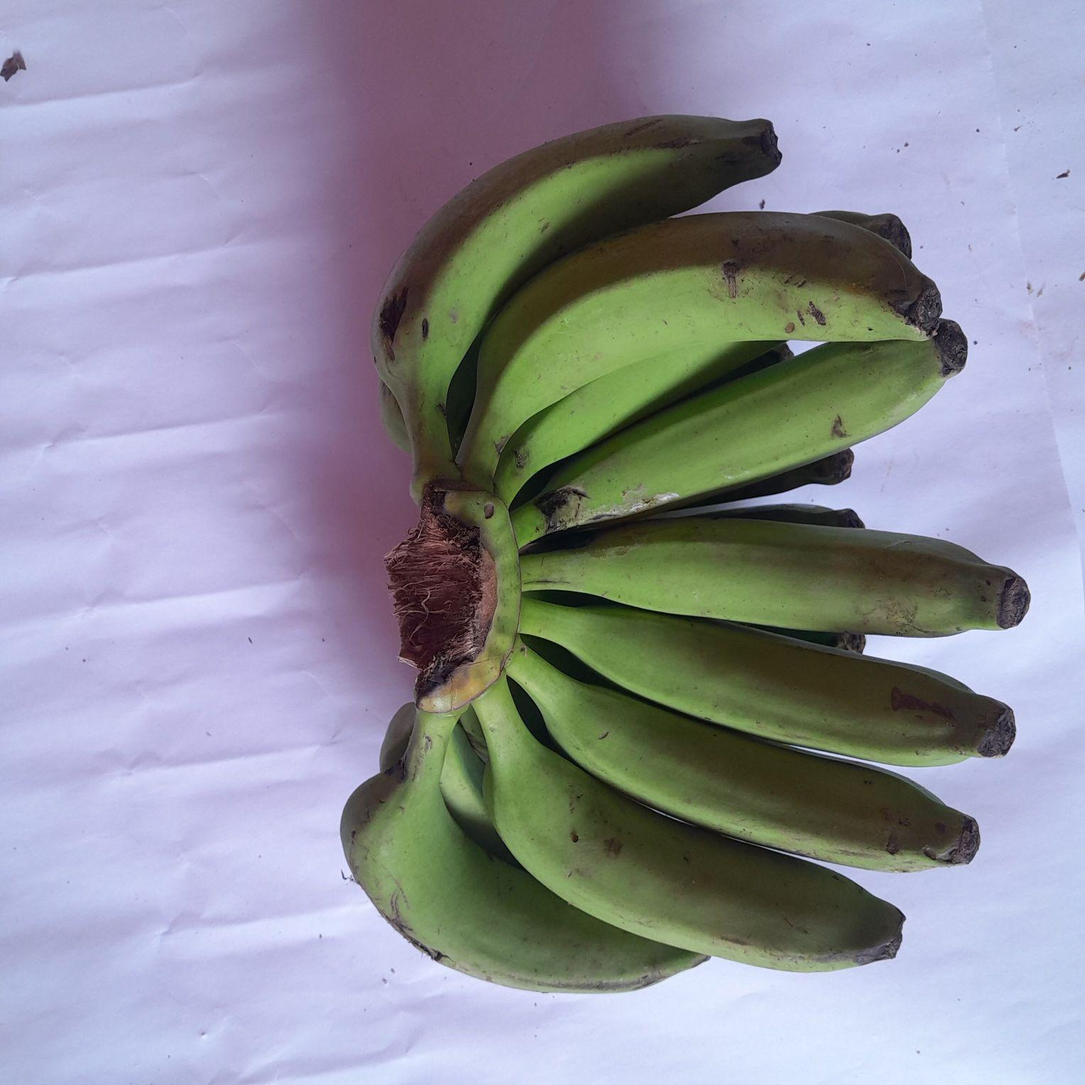Banana Unripe: (373, 117, 780, 500), (458, 212, 941, 477), (475, 678, 903, 971), (509, 648, 979, 871), (513, 320, 964, 545), (341, 712, 701, 992), (519, 598, 1015, 766), (521, 517, 1030, 636), (494, 341, 773, 502)
